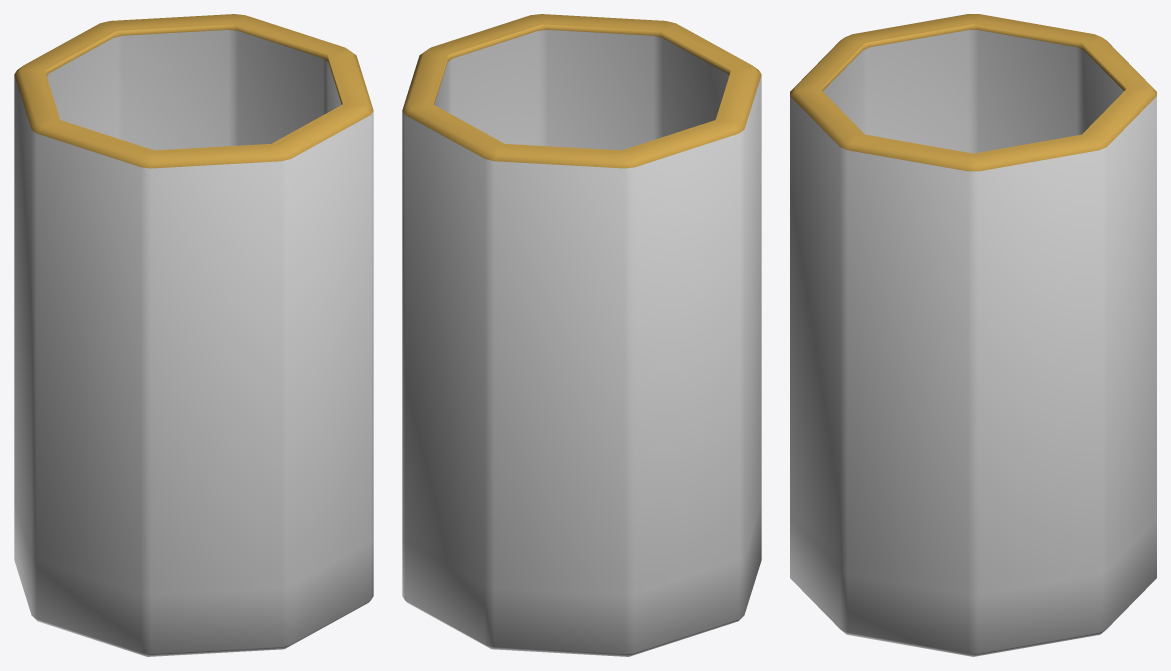
Rendered from jadalnia_szklanka.fbx.
3 renders of one model, left to right at view 1: azimuth 30°, elevation 25°; view 2: azimuth 150°, elevation 25°; view 3: azimuth 270°, elevation 25°, orthographic.
Parts seen in each view (by area): view 1: Circle; view 2: Circle; view 3: Circle.
Part boxes in pixels (x1=…): Circle: x1=14, y1=14, x2=373, y2=656; Circle: x1=402, y1=14, x2=761, y2=656; Circle: x1=790, y1=14, x2=1156, y2=656.
Bounding box in the file's own units: 10.24 × 15.18 × 10.24.
